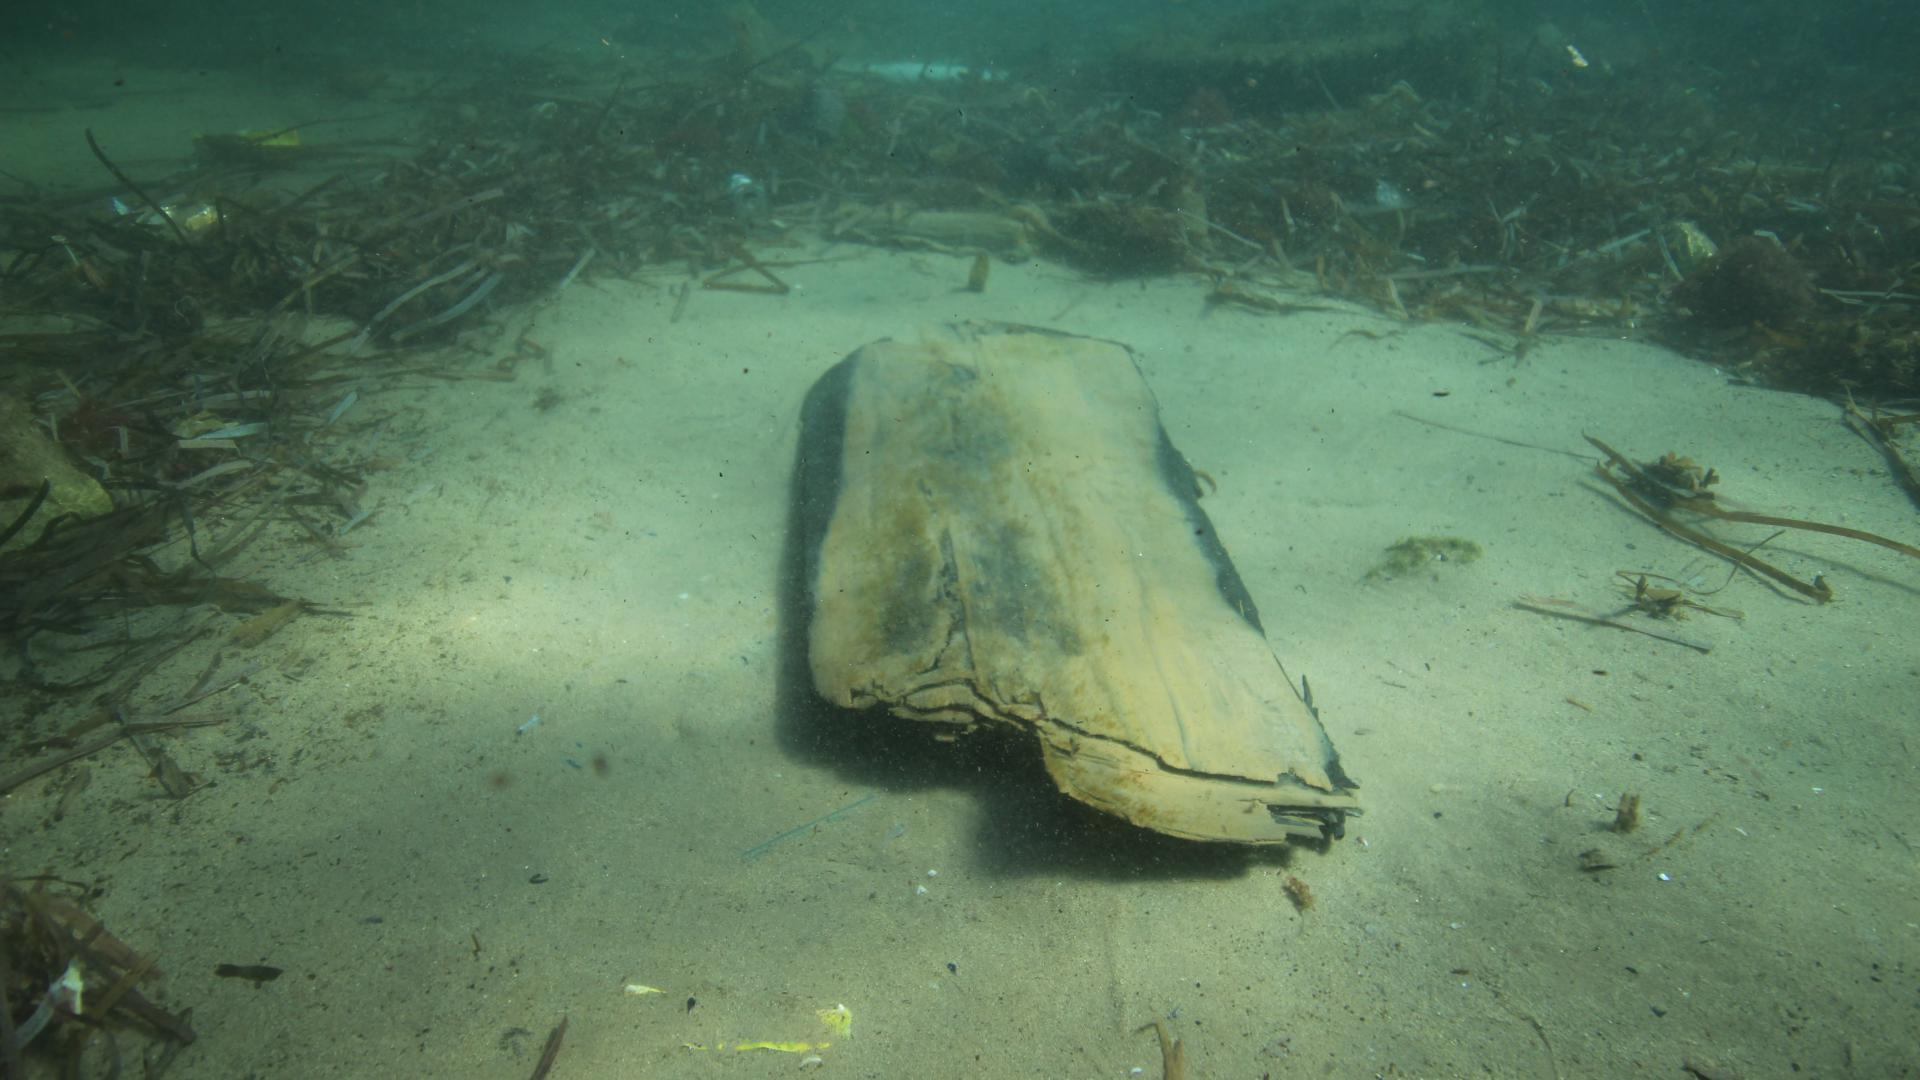wood: (808, 327, 1366, 847)
